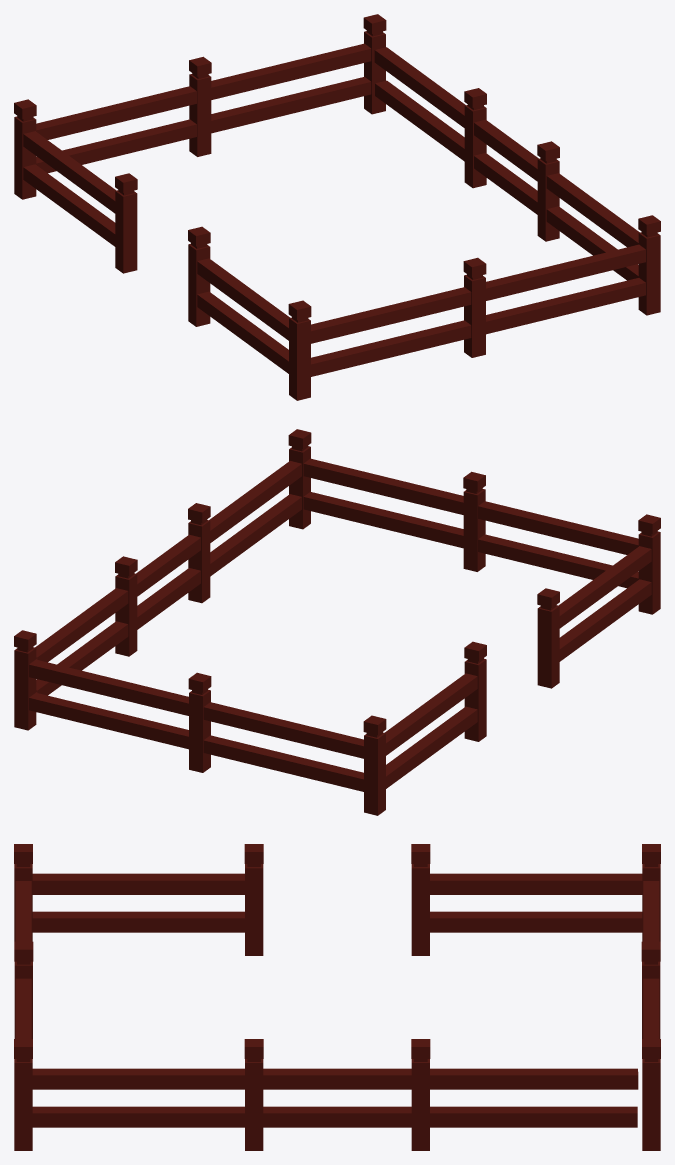
Rendered from fence1.fbx.
3 views of the same model, one above another, from view 1: azimuth 30°, elevation 25°; view 2: azimuth 150°, elevation 25°; view 3: azimuth 270°, elevation 25° (orthographic). The views are drawn at different scales.
Visible parts, largest first — view 1: fence1; view 2: fence1; view 3: fence1.
Boxes of the visible parts, left/top/right/bottom form: fence1: left=14, top=14, right=660, bottom=400; fence1: left=14, top=429, right=660, bottom=815; fence1: left=14, top=844, right=660, bottom=1150.
Bounding box in the file's own units: 641 × 153 × 864.
